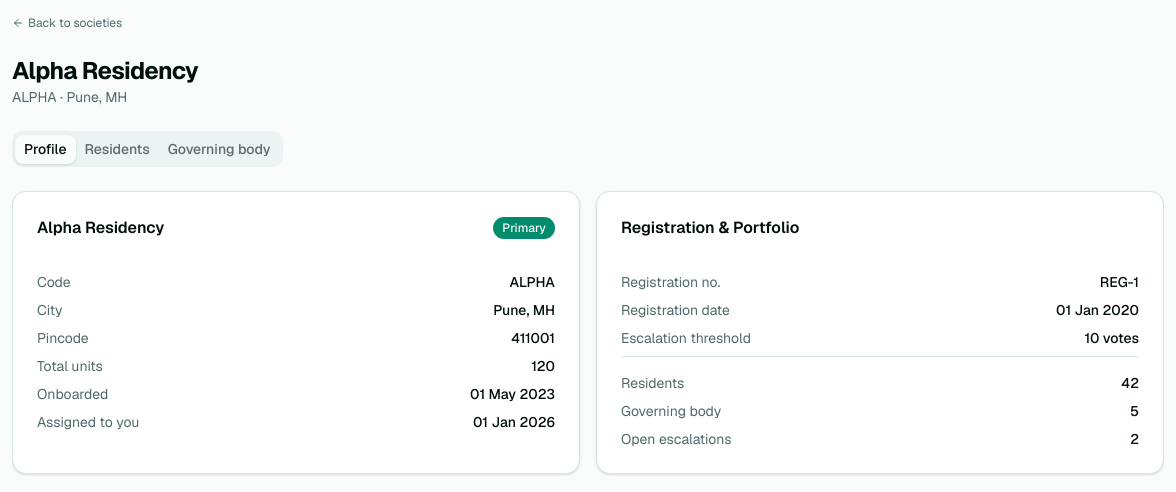
CounsellorSocietyDetailPage › switches to residents tab and renders resident list
What coordinates should you click on to do the following:
click the tab "Residents"
I would click on:
 (117, 149)
Its box is [76, 134, 159, 164].
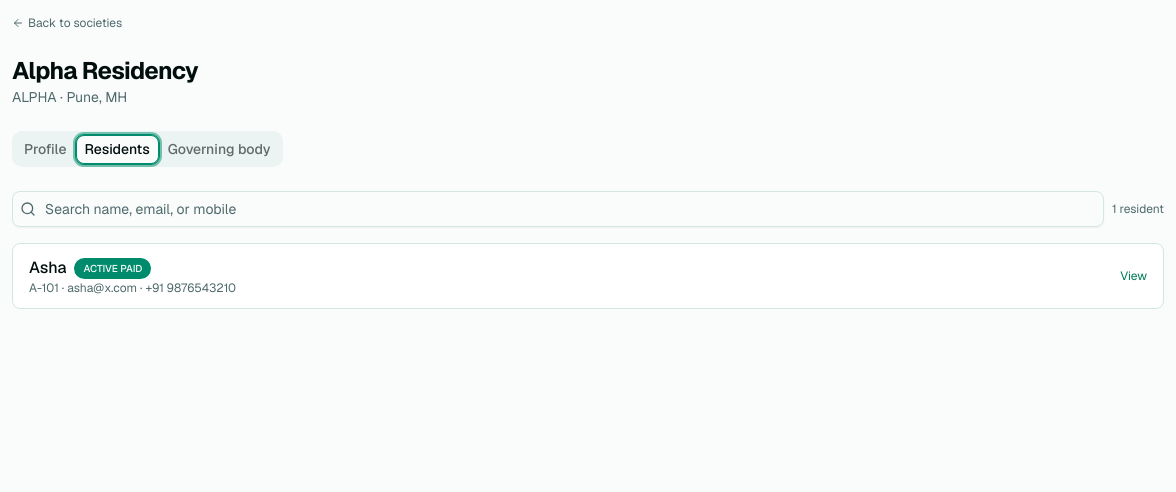
Expected: the link "Asha" is shown, [29, 256, 66, 280]
Expected: the text "A-101 · asha@x.com · +91 9876543210" is shown, [29, 280, 236, 296]
